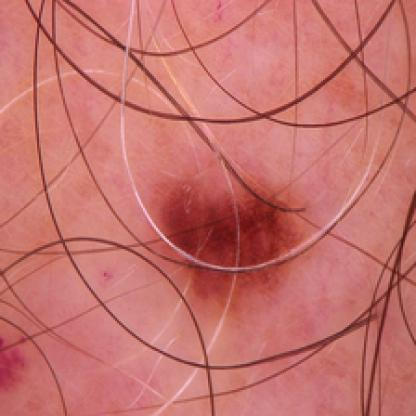benign: (156, 171, 308, 293)
